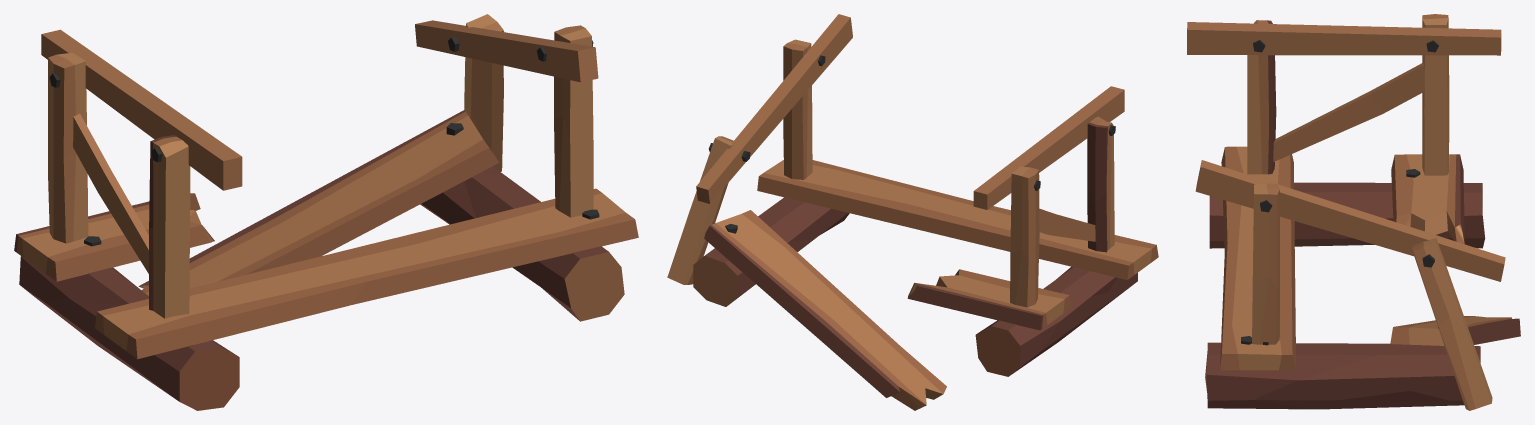
The model's file is bridge_broken_part.fbx.
The picture shows the model from 3 angles, left to right: view 1: azimuth 30°, elevation 25°; view 2: azimuth 150°, elevation 25°; view 3: azimuth 270°, elevation 25°; orthographic projection. The views are drawn at different scales.
Visible parts, largest first — view 1: bridge_broken; view 2: bridge_broken; view 3: bridge_broken.
Part boxes in pixels (box(x1,y1,x2,y2)): bridge_broken: box(14, 14, 638, 410); bridge_broken: box(667, 14, 1158, 410); bridge_broken: box(1187, 14, 1520, 410).
Size of the model in its own units: 130 by 81.58 by 86.11.
